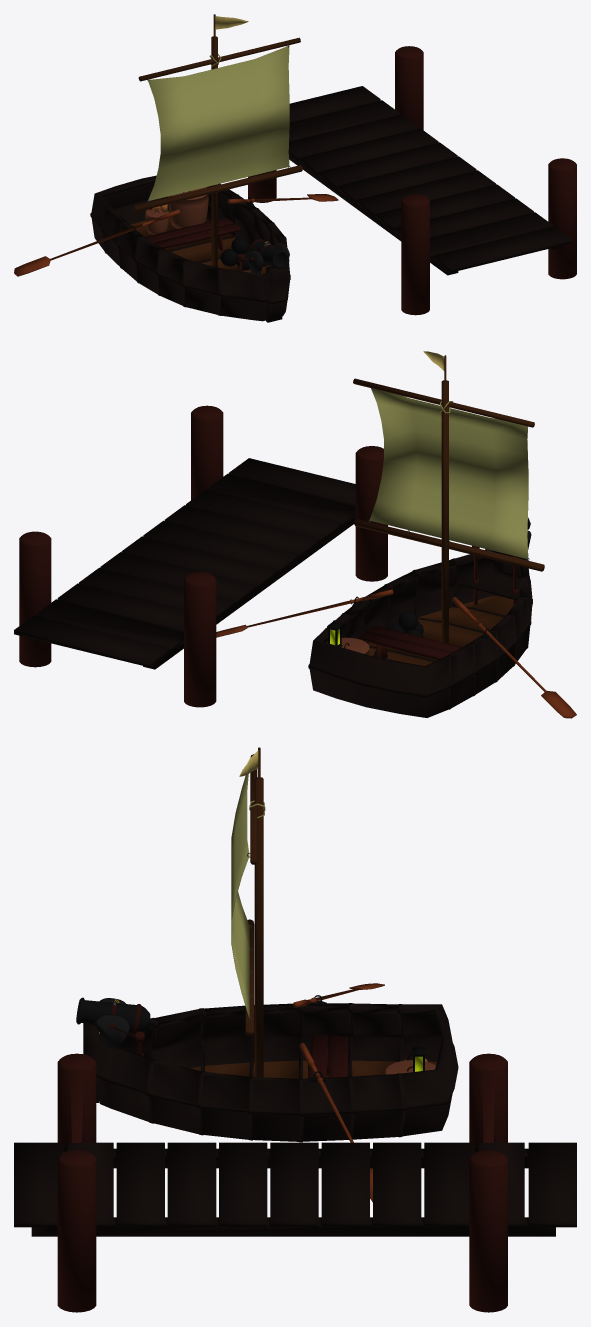
Rendered from Boat-OBJ.obj.
3 views of the same model, one above another, from view 1: azimuth 30°, elevation 25°; view 2: azimuth 150°, elevation 25°; view 3: azimuth 270°, elevation 25° (orthographic). The views are drawn at different scales.
Parts seen in each view (by area): view 1: Boat, dock, barrel1, row2, CannonBalls, row1, Barrel2; view 2: Boat, dock, row2, row1, CannonBalls; view 3: dock, Boat.
Part boxes in pixels (<box>): Boat: <box>90,14,302,322</box>; dock: <box>248,46,576,315</box>; barrel1: <box>168,187,208,228</box>; row2: <box>14,209,180,276</box>; CannonBalls: <box>220,237,249,269</box>; row1: <box>227,194,338,203</box>; Barrel2: <box>145,209,168,234</box>; Boat: <box>308,351,544,717</box>; dock: <box>14,405,387,707</box>; row2: <box>452,597,576,718</box>; row1: <box>216,589,393,637</box>; CannonBalls: <box>388,611,423,636</box>; dock: <box>14,1053,576,1312</box>; Boat: <box>76,747,458,1142</box>.
Size of the model in its own units: 152 by 89.54 by 123.
